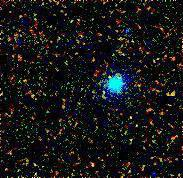star: (110, 19, 140, 49)
